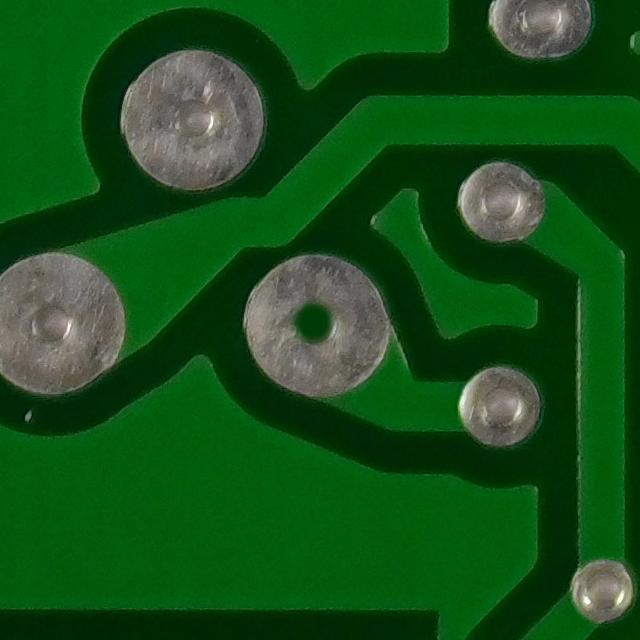missing_hole: (259, 253, 382, 388)
